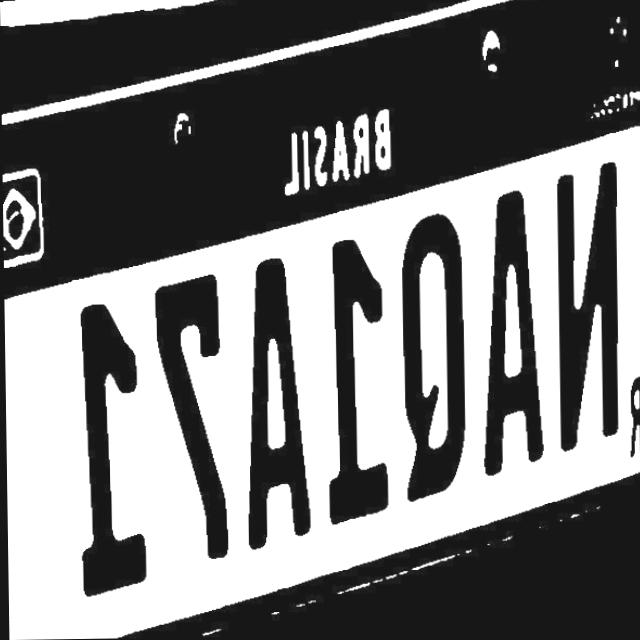1: (74, 282, 146, 606), (323, 229, 390, 530)
7: (154, 264, 230, 579)
a: (237, 250, 311, 566), (472, 184, 547, 484)
n: (549, 159, 627, 455)
q: (395, 204, 465, 529)
